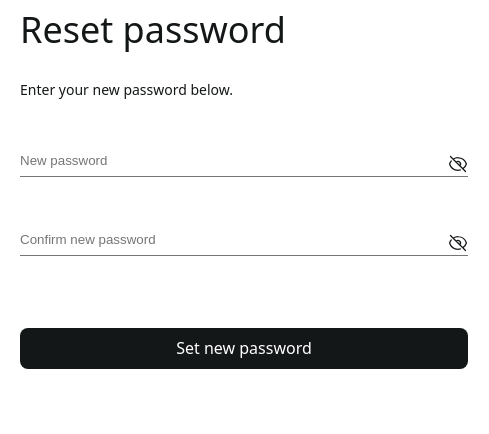
Test: Feature: ResetPasswordPage › shows error message on failed reset
Type "Strongpass1!" into the password field with placeholder "New password".
click(244, 164); type("Strongpass1!")  # box 20,152 -> 468,177
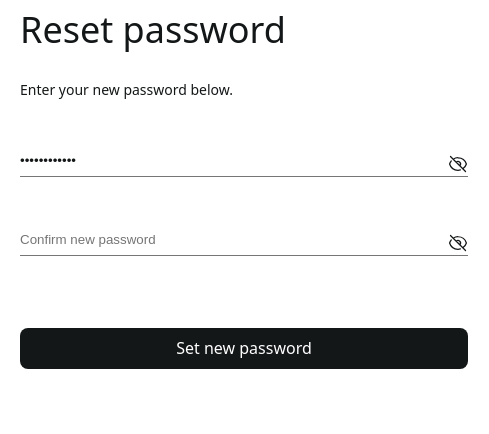
Type "Strongpass1!" into the password field with placeholder "Confirm new password".
click(244, 243); type("Strongpass1!")  # box 20,231 -> 468,256
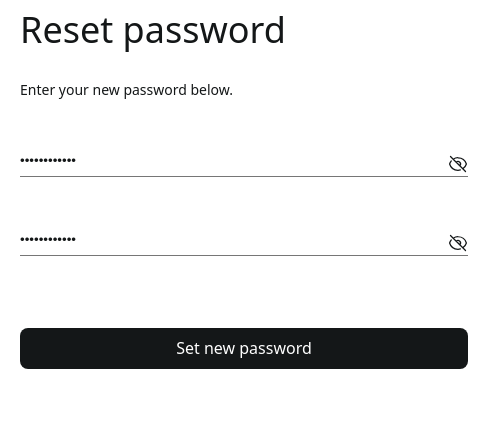
Click the button "Set new password".
click(244, 348)  # box 20,328 -> 468,369
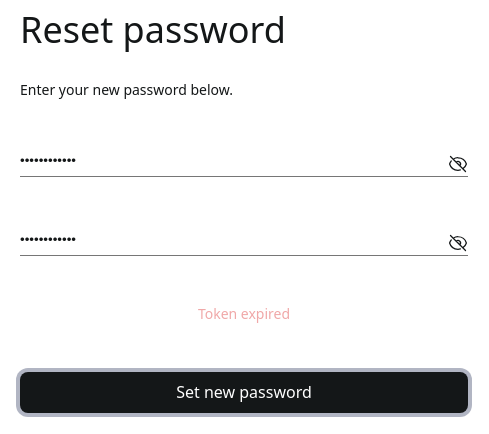
Expected: the text "Token expired" is shown, 198,304 -> 290,323
